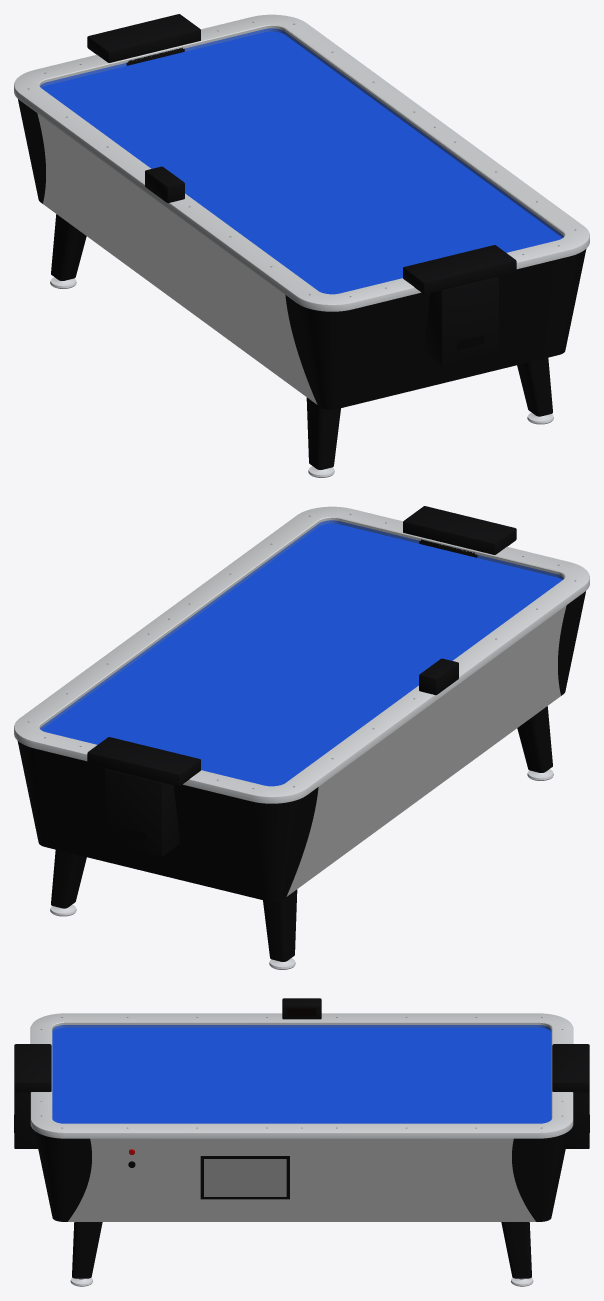
The model's file is table.glb.
3 views of the same model, one above another, from view 1: azimuth 30°, elevation 25°; view 2: azimuth 150°, elevation 25°; view 3: azimuth 270°, elevation 25° (orthographic). The views are drawn at different scales.
Visible parts, largest first — view 1: surface, cabinet, rail, housing-0, legs, housing-1, rail-wall, score-unit, feet; view 2: surface, cabinet, rail, housing-1, legs, housing-0, rail-wall, score-unit, feet; view 3: surface, cabinet, rail, panel, housing-0, housing-1, legs, rail-wall, score-unit.
Boxes of the visible parts, x1=… form: surface: x1=41, y1=31, x2=562, y2=294; cabinet: x1=18, y1=99, x2=586, y2=409; rail: x1=14, y1=14, x2=589, y2=311; housing-0: x1=403, y1=245, x2=516, y2=364; legs: x1=51, y1=214, x2=552, y2=469; housing-1: x1=87, y1=14, x2=200, y2=65; rail-wall: x1=40, y1=28, x2=563, y2=237; score-unit: x1=145, y1=166, x2=184, y2=203; feet: x1=50, y1=277, x2=553, y2=477; surface: x1=41, y1=523, x2=562, y2=786; cabinet: x1=17, y1=591, x2=585, y2=901; rail: x1=14, y1=506, x2=589, y2=803; housing-1: x1=87, y1=737, x2=200, y2=856; legs: x1=51, y1=706, x2=552, y2=961; housing-0: x1=403, y1=506, x2=516, y2=557; rail-wall: x1=40, y1=520, x2=563, y2=729; score-unit: x1=419, y1=658, x2=458, y2=695; feet: x1=50, y1=769, x2=553, y2=969; surface: x1=52, y1=1027, x2=551, y2=1123; cabinet: x1=34, y1=1131, x2=569, y2=1221; rail: x1=30, y1=1013, x2=573, y2=1138; panel: x1=200, y1=1156, x2=289, y2=1199; housing-0: x1=14, y1=1044, x2=51, y2=1148; housing-1: x1=552, y1=1044, x2=589, y2=1148; legs: x1=72, y1=1222, x2=531, y2=1278; rail-wall: x1=52, y1=1025, x2=551, y2=1032; score-unit: x1=282, y1=998, x2=321, y2=1019.
Bounding box in the file's own units: 1.31 × 0.9 × 2.64.
